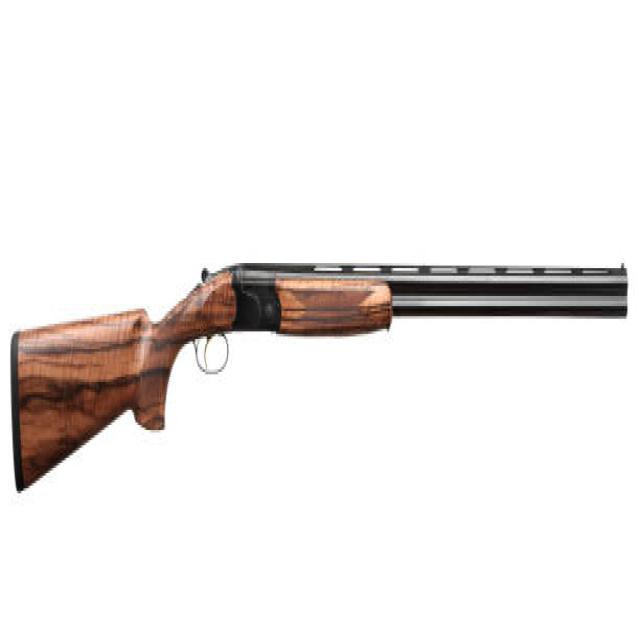rifle: (7, 229, 638, 517)
